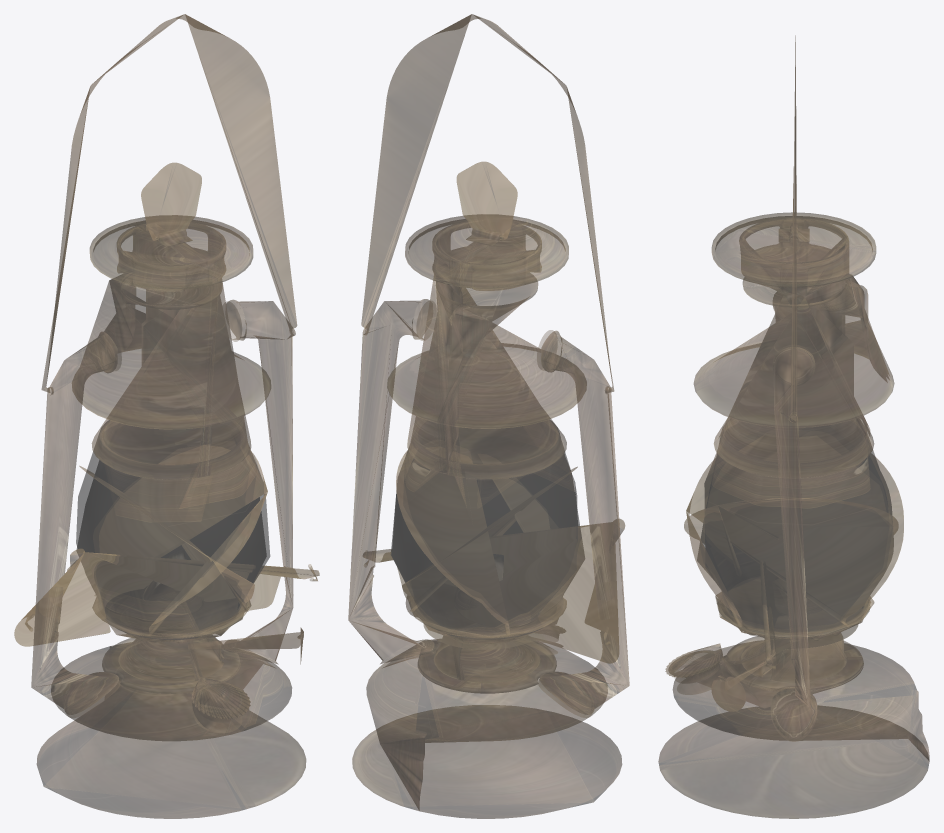
Rendered from lantern.glb.
3 views of the same model, side by side, from view 1: azimuth 30°, elevation 25°; view 2: azimuth 150°, elevation 25°; view 3: azimuth 270°, elevation 25° (orthographic).
Parts seen in each view (by area): view 1: lantern; view 2: lantern; view 3: lantern.
Boxes of the visible parts, box(x1,y1,x2,y2) form: lantern: box(14, 14, 319, 818); lantern: box(348, 14, 629, 818); lantern: box(658, 35, 929, 818).
Bounding box in the file's own units: 0.1144 × 0.2922 × 0.0956.
Materials: 2 (2 with a texture image).
